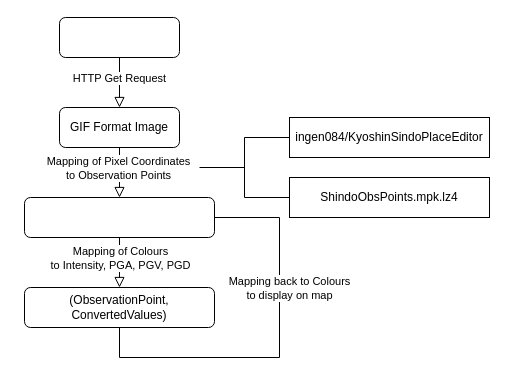
The diagram is 507 pixels wide and 383 high, and some of its shapes have lost their labels. The shapes that lost their labels are listed below. From the top down, each one's centre as x and y in pixels, then its label:
At point (119, 37): "kmoni.bosai.go.jp".
At point (119, 217): "(ObservationPoint, Colour)".
